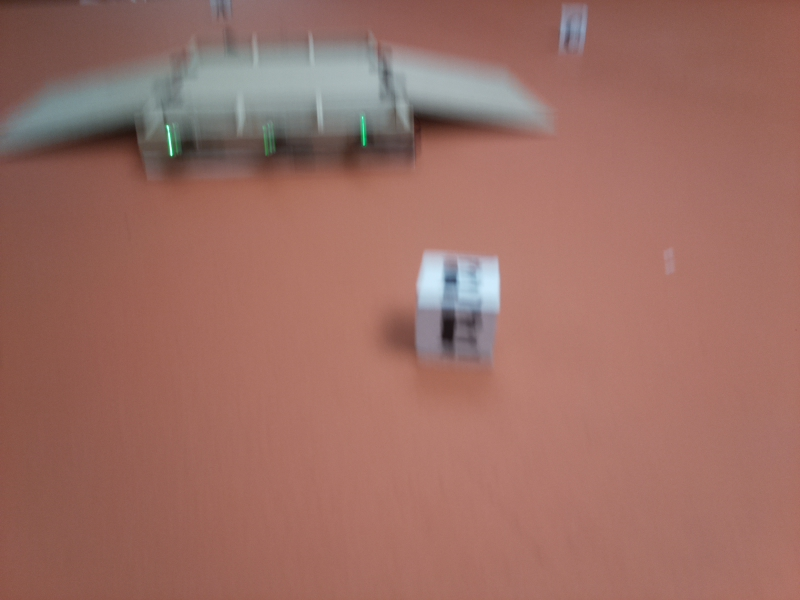blockA: (205, 1, 239, 22)
blockC: (558, 6, 583, 61)
blockE: (406, 250, 502, 367)
side: (137, 94, 420, 185)
slope: (3, 43, 160, 163), (400, 40, 544, 137)
